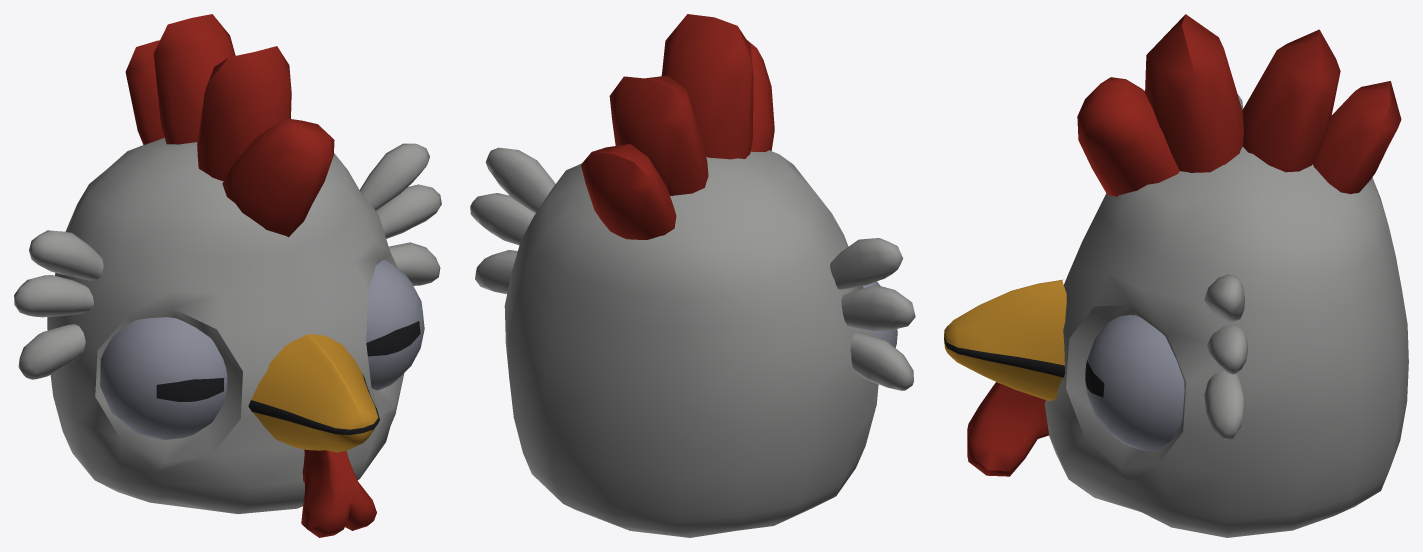
The model's file is q_chicken.glb.
3 views of the same model, side by side, from view 1: azimuth 30°, elevation 25°; view 2: azimuth 150°, elevation 25°; view 3: azimuth 270°, elevation 25° (orthographic). The views are drawn at different scales.
Parts seen in each view (by area): view 1: Chicken_Blob_b; view 2: Chicken_Blob_b; view 3: Chicken_Blob_b.
Part boxes in pixels (bbox=[...]): Chicken_Blob_b: bbox=[14, 14, 441, 537]; Chicken_Blob_b: bbox=[470, 14, 915, 537]; Chicken_Blob_b: bbox=[944, 14, 1408, 537].
Size of the model in its own units: 0.9913 by 1 by 0.8833.
